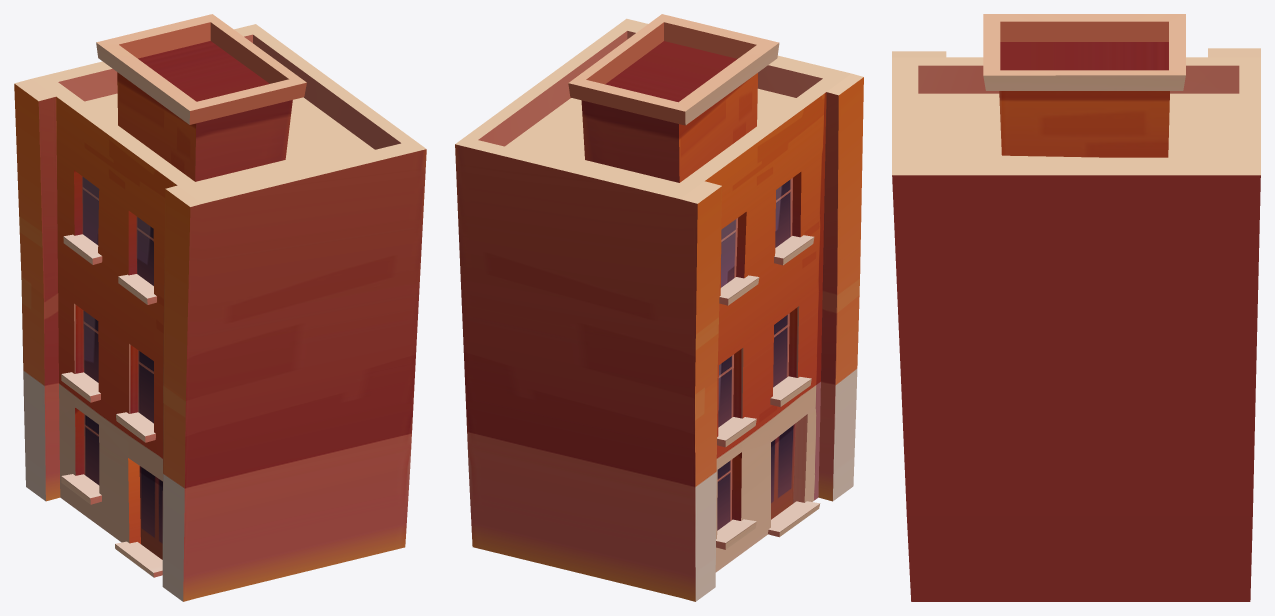
Rendered from city_mid_c.glb.
3 renders of one model, left to right at view 1: azimuth 30°, elevation 25°; view 2: azimuth 150°, elevation 25°; view 3: azimuth 270°, elevation 25°, orthographic. The views are drawn at different scales.
Parts seen in each view (by area): view 1: P00; view 2: P00; view 3: P00.
Boxes of the visible parts, left/top/right/bottom form: P00: left=14, top=14, right=426, bottom=601; P00: left=455, top=14, right=863, bottom=601; P00: left=892, top=14, right=1260, bottom=601.
Bounding box in the file's own units: 8.61 × 15.54 × 10.54.
Materials: 1 (1 with a texture image).
